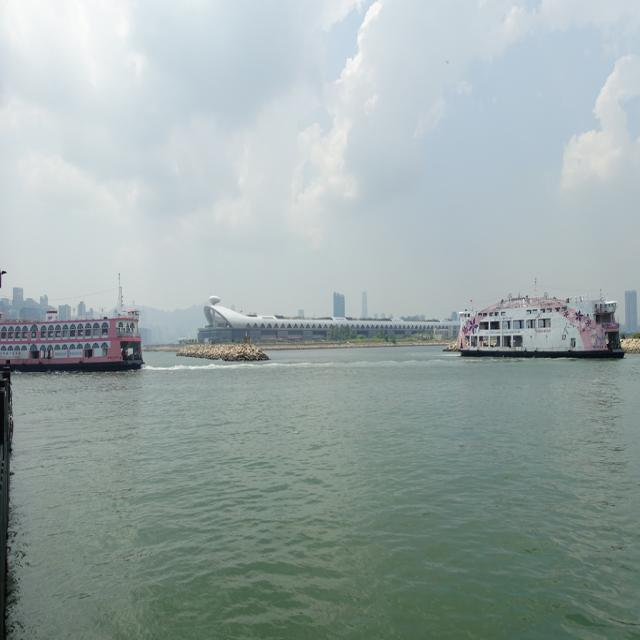Boat: (442, 271, 620, 360), (2, 310, 142, 364)
